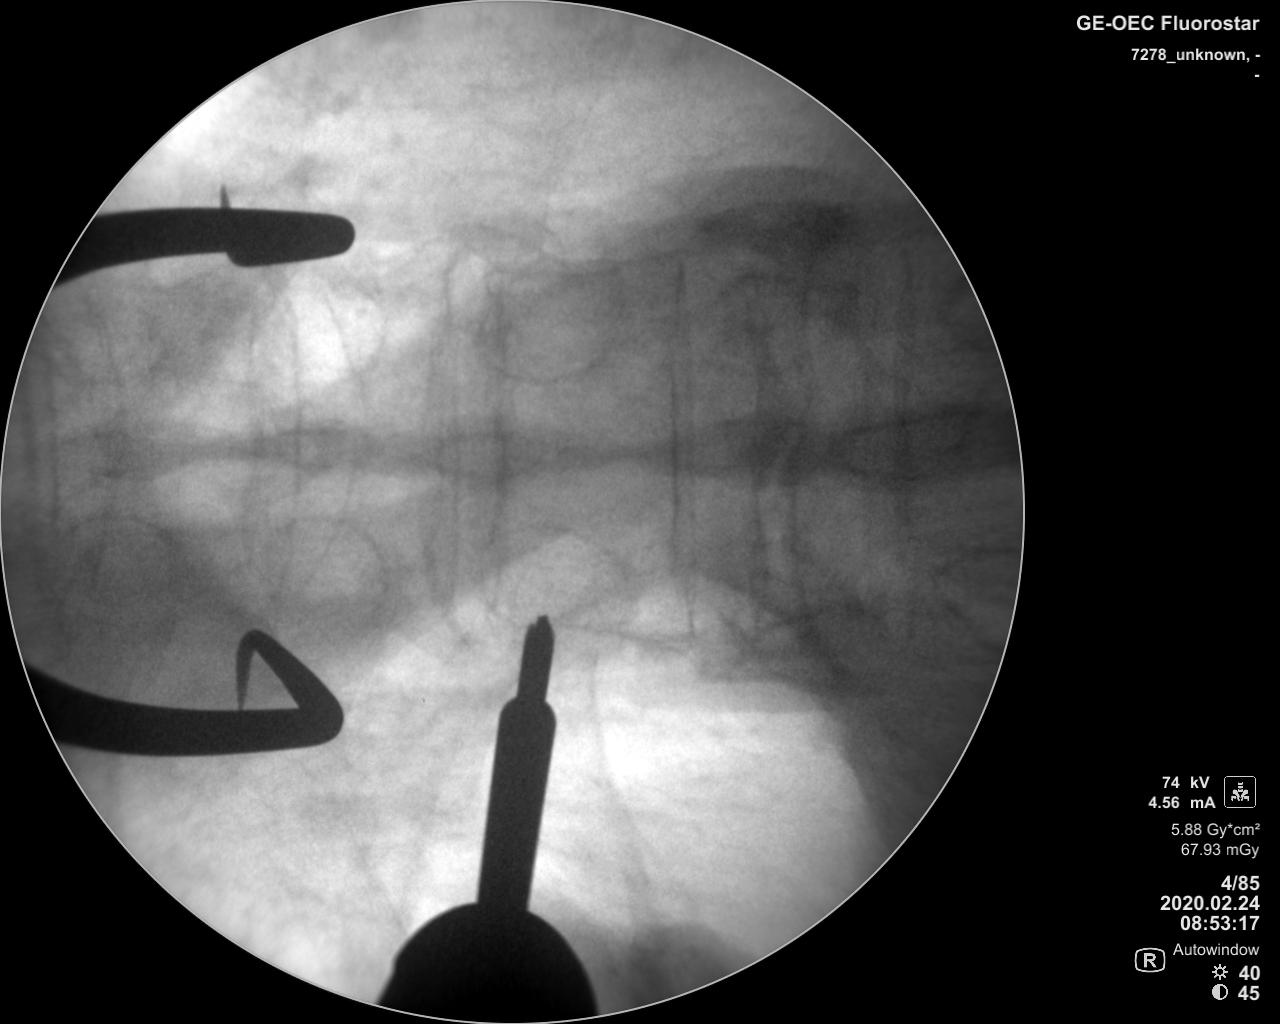eyes: (252, 518, 395, 630), (480, 263, 615, 378), (47, 510, 187, 619), (474, 521, 622, 615), (252, 277, 385, 363)
line: (665, 247, 707, 651), (256, 281, 307, 616), (428, 248, 470, 625), (884, 229, 920, 637)
nose: (616, 413, 822, 488), (825, 402, 982, 488), (392, 419, 582, 485), (228, 409, 385, 483), (54, 417, 219, 483)
